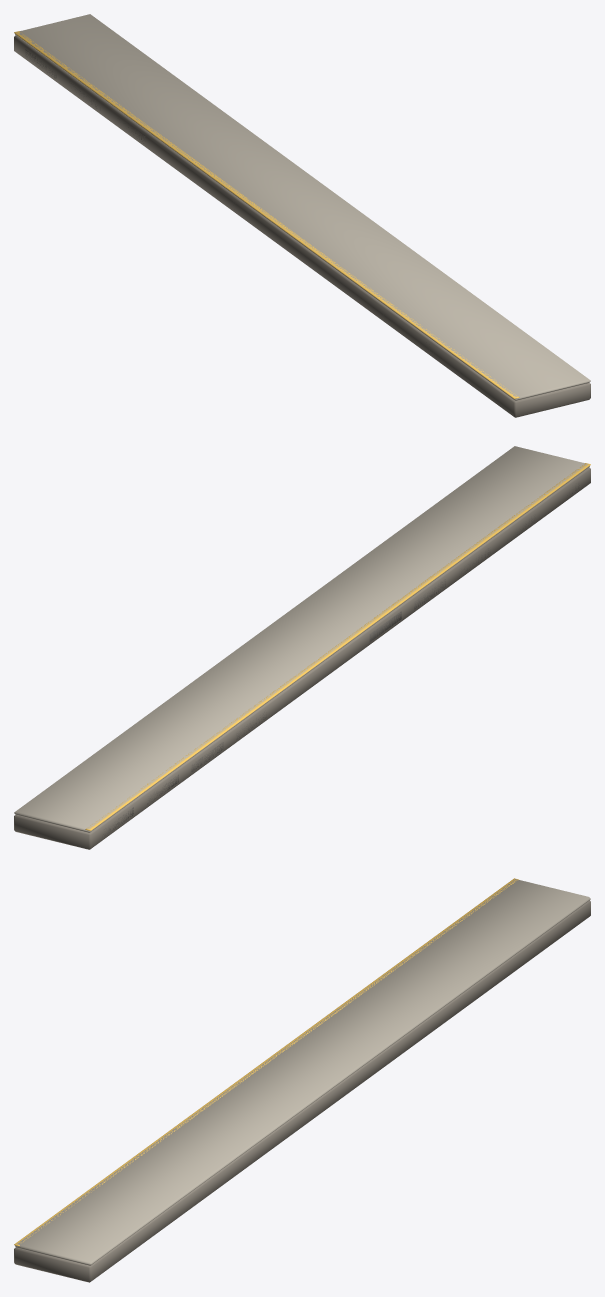
The model's file is platform.glb.
3 renders of one model, top to bottom at view 1: azimuth 30°, elevation 25°; view 2: azimuth 150°, elevation 25°; view 3: azimuth 330°, elevation 25°, orthographic.
Visible parts, largest first — view 1: platform; view 2: platform; view 3: platform.
Part boxes in pixels (bbox=[...]): platform: bbox=[14, 14, 590, 417]; platform: bbox=[14, 446, 590, 849]; platform: bbox=[14, 878, 590, 1282].
Size of the model in its own units: 4 by 1 by 45.
